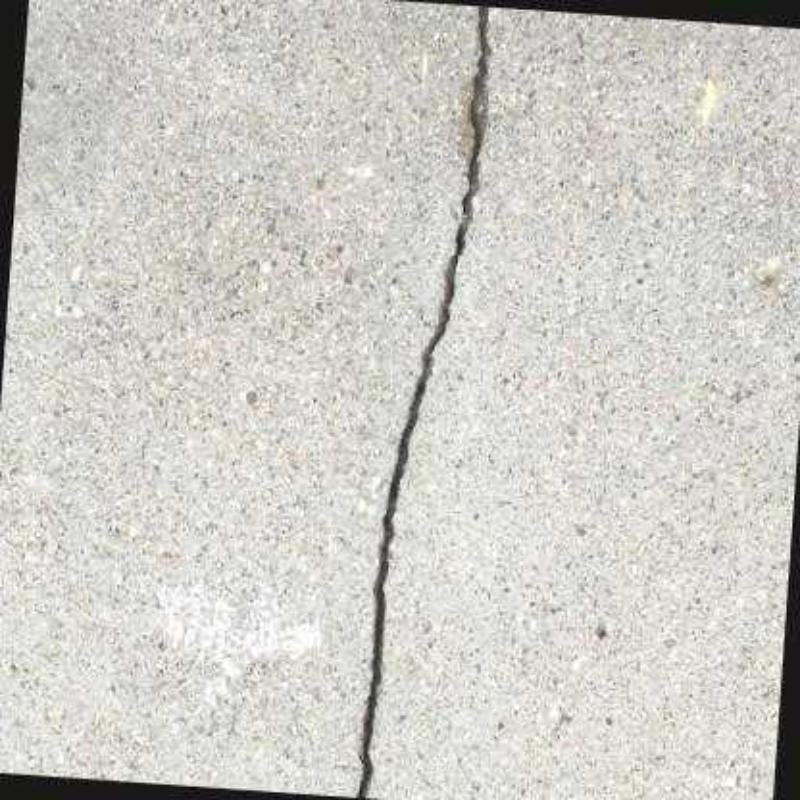pothole: (356, 10, 489, 798)
